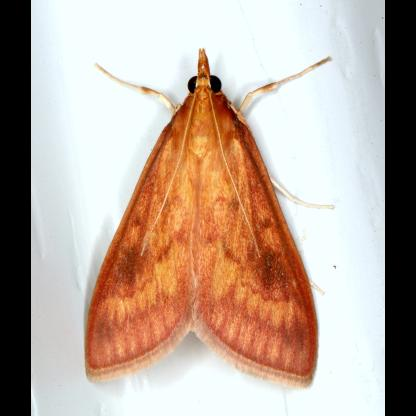Asian Corn Borer Moth: (80, 44, 338, 392)
